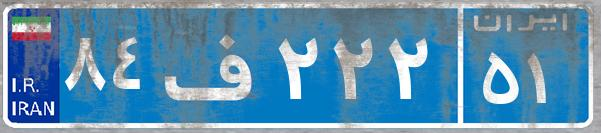1: (525, 38, 570, 115)
2: (385, 28, 445, 110), (273, 28, 330, 110), (330, 28, 385, 110)
4: (110, 28, 158, 105)
5: (475, 38, 525, 113)
8: (57, 26, 110, 107)
ف: (158, 15, 273, 115)
